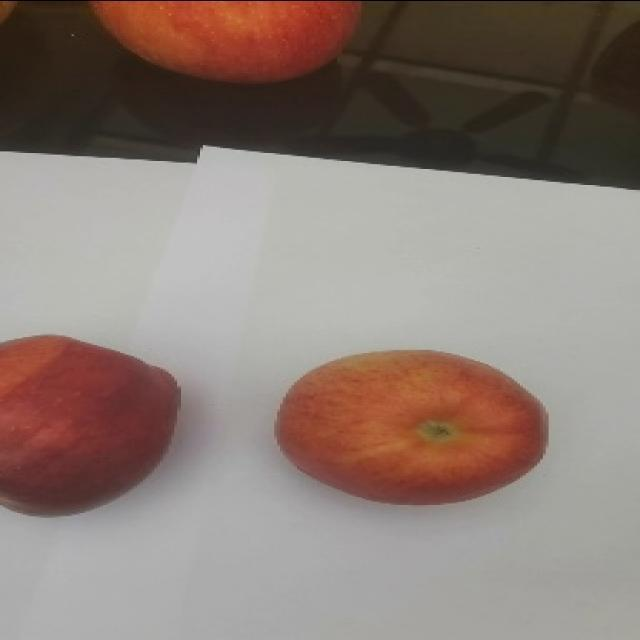Apple: (274, 348, 549, 505), (0, 333, 181, 517), (88, 0, 362, 85)
